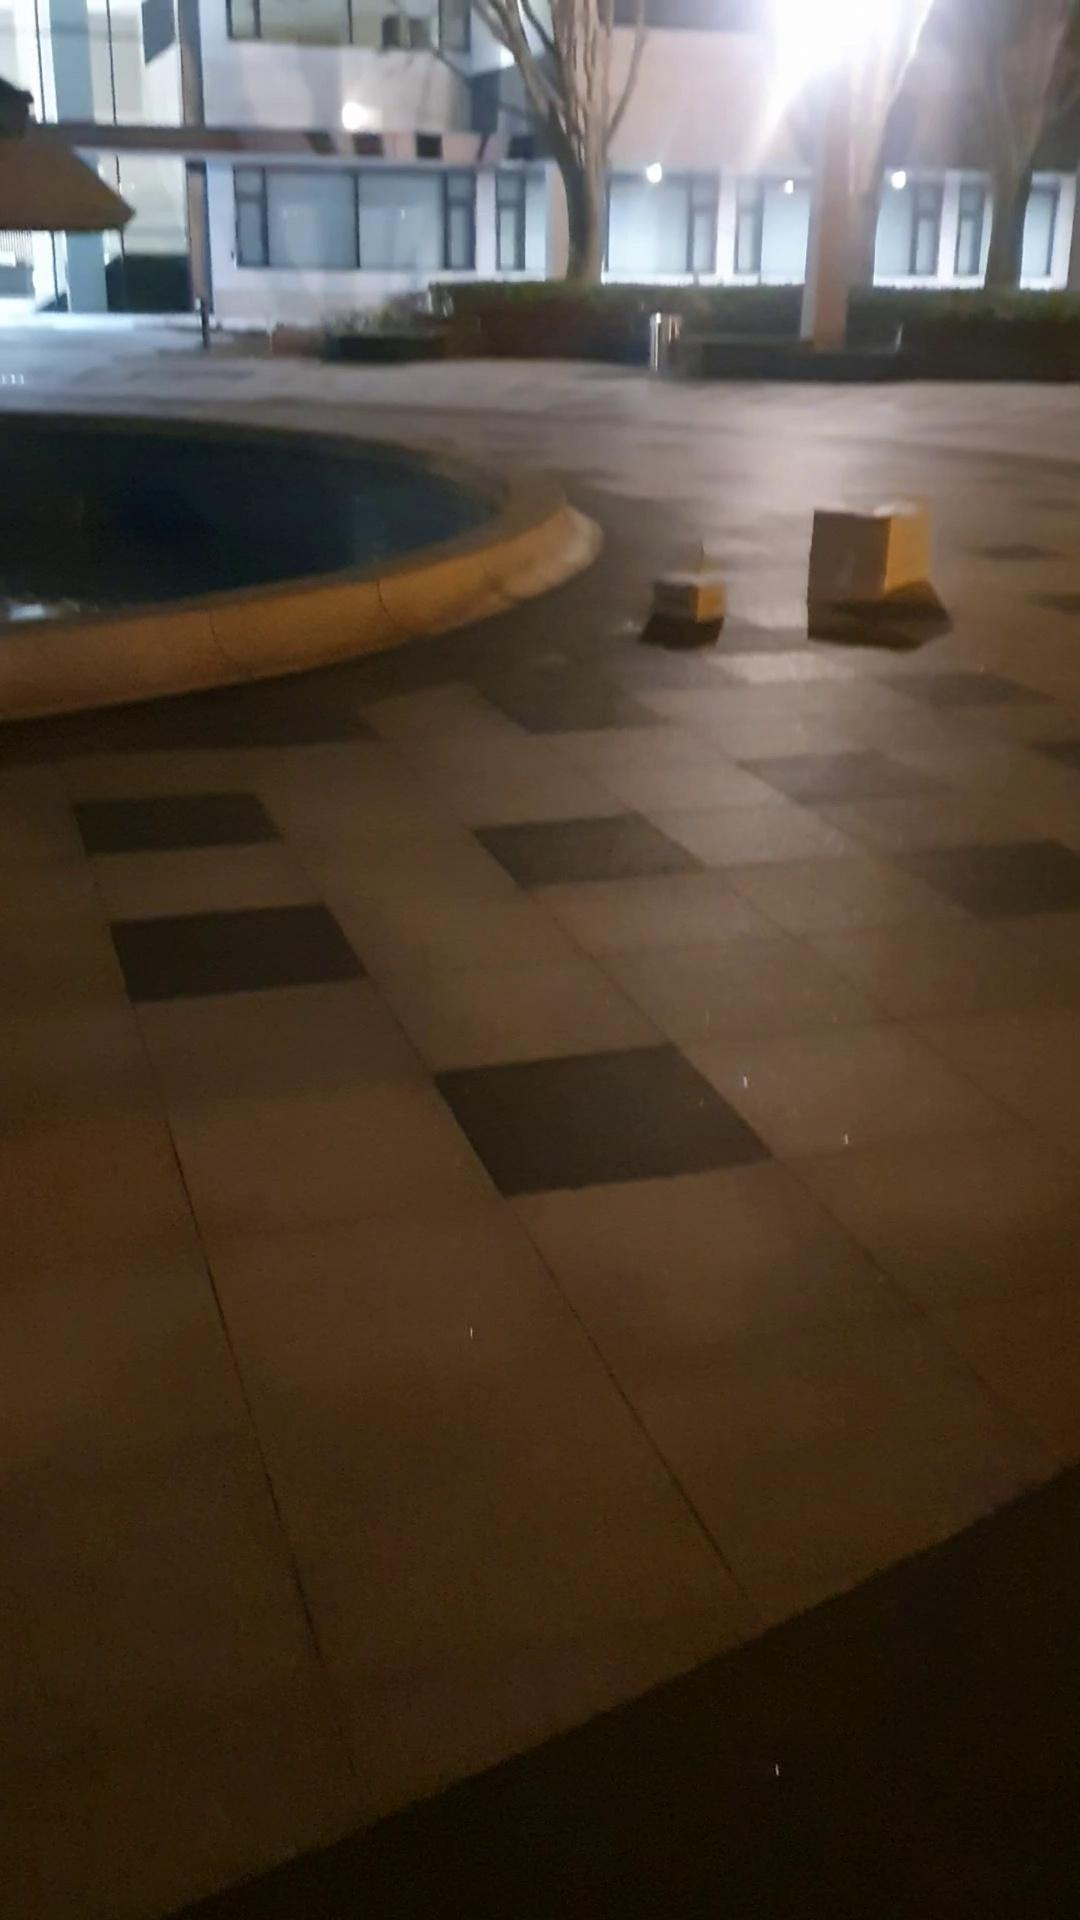Box: (800, 493, 940, 625), (636, 563, 735, 645)
